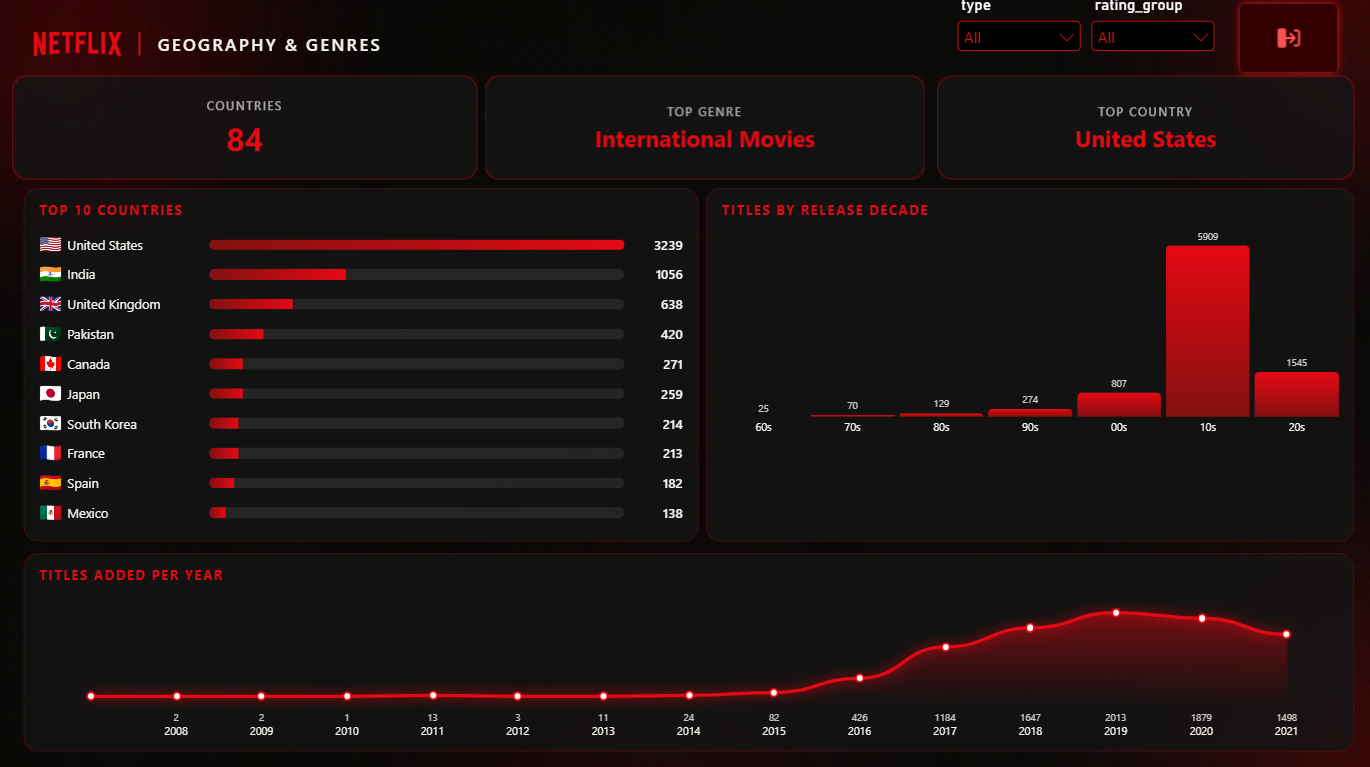

The page's visual inventory and layout, read from the dashboard file:
{"tool":"powerbi","page":{"name":"Geograghy","canvas":[1280,720],"ordinal":2},"visuals":[{"type":"htmlContent443BE3AD55E043BF878BED274D3A6855","fields":{"content":["Netflix_Genres.P3_Header"]},"box":[0,0,397.7,76.7],"z":0},{"type":"htmlContent443BE3AD55E043BF878BED274D3A6855","fields":{"content":["Netflix_Genres.P3_KPI_Countries"]},"box":[0,60.5,465.1,126.7],"z":1000},{"type":"htmlContent443BE3AD55E043BF878BED274D3A6855","fields":{"content":["Netflix_Genres./* P3_KPI_TopCountry  |  الحجم والمكان في Layout_Guide.txt  |  Measure مستقل: انسخه كله من أول اسمه */P3_"]},"box":[860.5,60.5,419.8,126.7],"z":2000},{"type":"htmlContent443BE3AD55E043BF878BED274D3A6855","fields":{"content":["Netflix_Genres.P3_KPI_TopGenre"]},"box":[439.5,60.5,441.9,126.7],"z":3000},{"type":"htmlContent443BE3AD55E043BF878BED274D3A6855","fields":{"content":["Netflix_Genres.P3_Chart_Countries"]},"box":[11,164.6,659.8,358.5],"z":4000},{"type":"htmlContent443BE3AD55E043BF878BED274D3A6855","fields":{"content":["Netflix_Genres.P3_Chart_Decades"]},"box":[645.1,164.6,635.4,358.5],"z":6000},{"type":"htmlContent443BE3AD55E043BF878BED274D3A6855","fields":{"content":["Netflix_Genres.P3_Chart_Years"]},"box":[10.5,504.7,1269.8,215.1],"z":7000},{"type":"slicer","fields":{"Values":["Netflix_Clean.rating_group"]},"box":[1015.1,0,124.4,70.9],"z":8000},{"type":"slicer","fields":{"Values":["Netflix_Clean.type"]},"box":[890.7,0,124.4,70.9],"z":9000},{"type":"actionButton","box":[1150,0,107,80.2],"z":9001}]}

Visuals, with their boxes in screenshot pixels (x1, y1, x2, y2), scaled from the page's 1280x720 canvas onto the 1370x767 screenshot:
htmlContent443BE3AD55E043BF878BED274D3A6855 - Netflix_Genres.P3_Header: (0,0,426,82)
htmlContent443BE3AD55E043BF878BED274D3A6855 - Netflix_Genres.P3_KPI_Countries: (0,64,498,199)
htmlContent443BE3AD55E043BF878BED274D3A6855 - Netflix_Genres./* P3_KPI_TopCountry  |  الحجم والمكان في Layout_Guide.txt  |  Measure مستقل: انسخه كله من أول اسمه */P3_: (921,64,1369,199)
htmlContent443BE3AD55E043BF878BED274D3A6855 - Netflix_Genres.P3_KPI_TopGenre: (470,64,943,199)
htmlContent443BE3AD55E043BF878BED274D3A6855 - Netflix_Genres.P3_Chart_Countries: (12,175,718,557)
htmlContent443BE3AD55E043BF878BED274D3A6855 - Netflix_Genres.P3_Chart_Decades: (690,175,1369,557)
htmlContent443BE3AD55E043BF878BED274D3A6855 - Netflix_Genres.P3_Chart_Years: (11,538,1369,766)
slicer - Netflix_Clean.rating_group: (1086,0,1220,76)
slicer - Netflix_Clean.type: (953,0,1086,76)
actionButton: (1231,0,1345,85)
